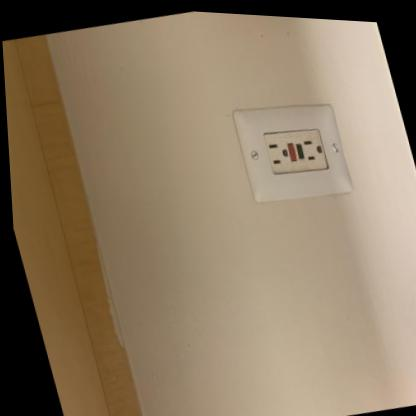OUTLET: (230, 90, 357, 214)
